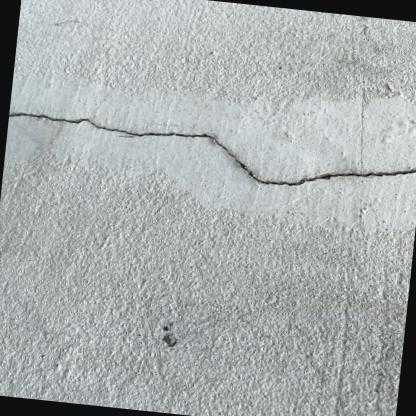crack: (9, 112, 416, 185)
